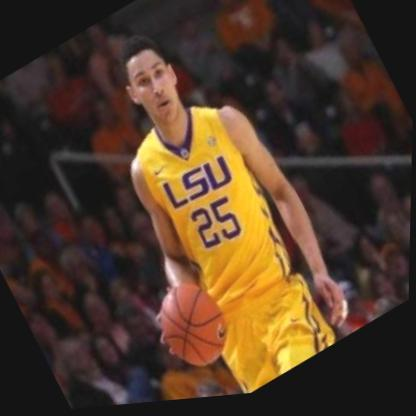basketball: (147, 271, 247, 388)
